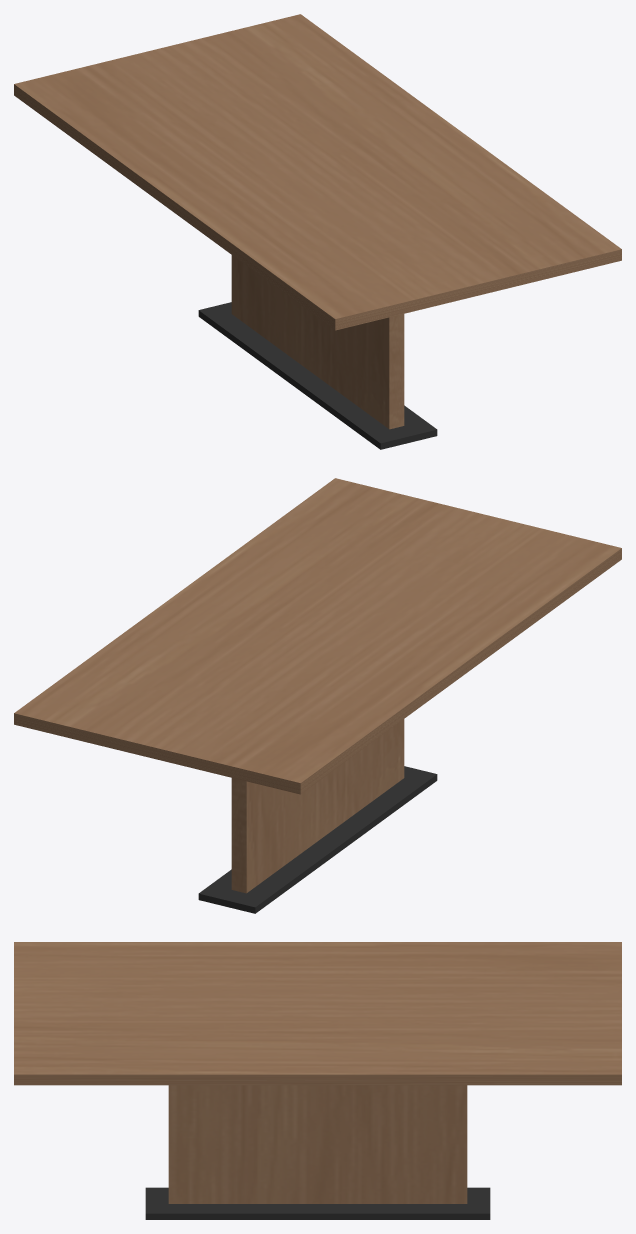
Rendered from TavoloSalotto.fbx.
The picture shows the model from 3 angles, top to bottom: view 1: azimuth 30°, elevation 25°; view 2: azimuth 150°, elevation 25°; view 3: azimuth 270°, elevation 25°; orthographic projection. The views are drawn at different scales.
Parts seen in each view (by area): view 1: TavoloSalotto; view 2: TavoloSalotto; view 3: TavoloSalotto.
Part boxes in pixels (<box>): TavoloSalotto: <box>14,14,621,449</box>; TavoloSalotto: <box>14,478,621,913</box>; TavoloSalotto: <box>14,942,621,1219</box>.
Bounding box in the file's own units: 120 × 83.75 × 233.
